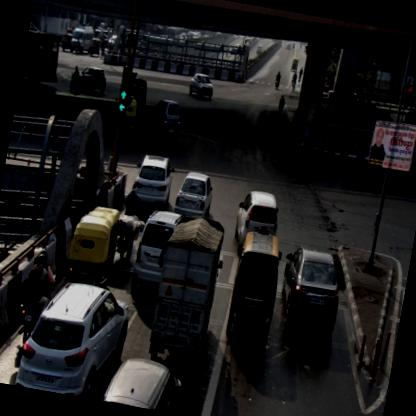bus: (20, 29, 64, 88), (70, 24, 96, 54)
car: (13, 274, 132, 402), (223, 230, 285, 348), (272, 244, 346, 340), (100, 352, 189, 413), (128, 208, 182, 300), (232, 186, 283, 254), (128, 150, 176, 210), (172, 170, 216, 222), (147, 98, 184, 136), (76, 64, 108, 94), (186, 73, 216, 100)
motorcycle: (14, 246, 60, 344), (116, 183, 142, 264), (68, 64, 82, 93), (290, 71, 297, 94), (274, 69, 281, 89)
truck: (146, 212, 231, 369)
